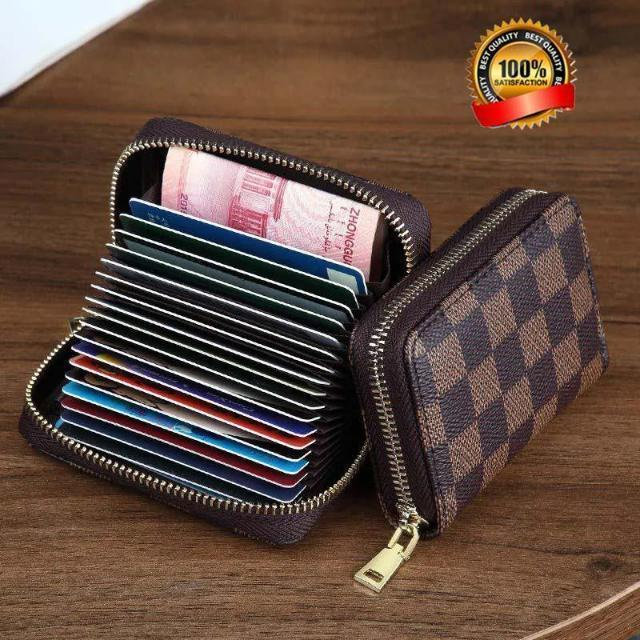wallet: (350, 185, 612, 537)
